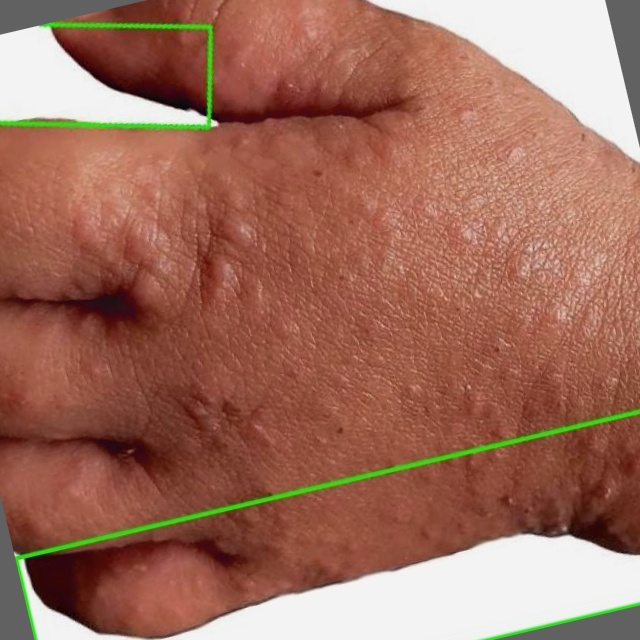Contact Dermatitis: (15, 411, 639, 639), (0, 27, 219, 143)
